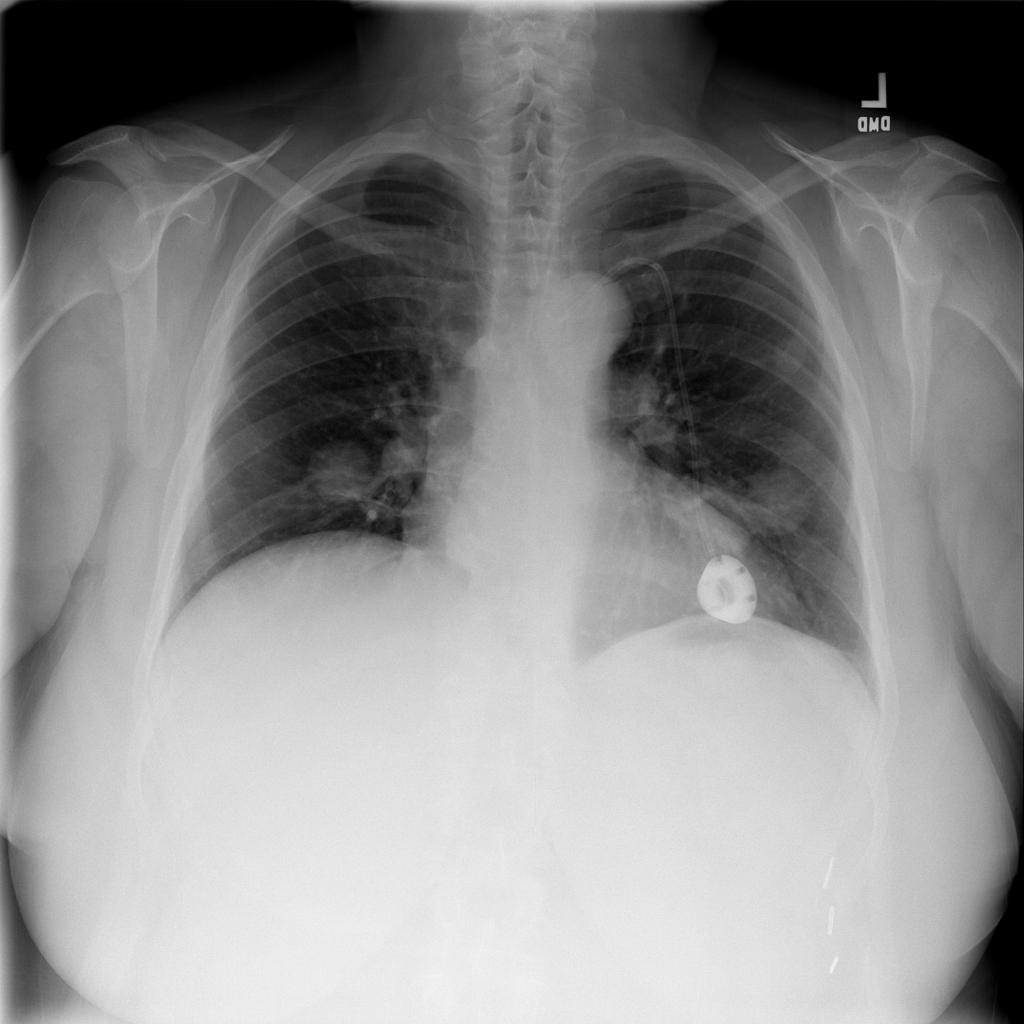nodule: (743, 457, 823, 544), (302, 433, 383, 510), (755, 316, 825, 393)
